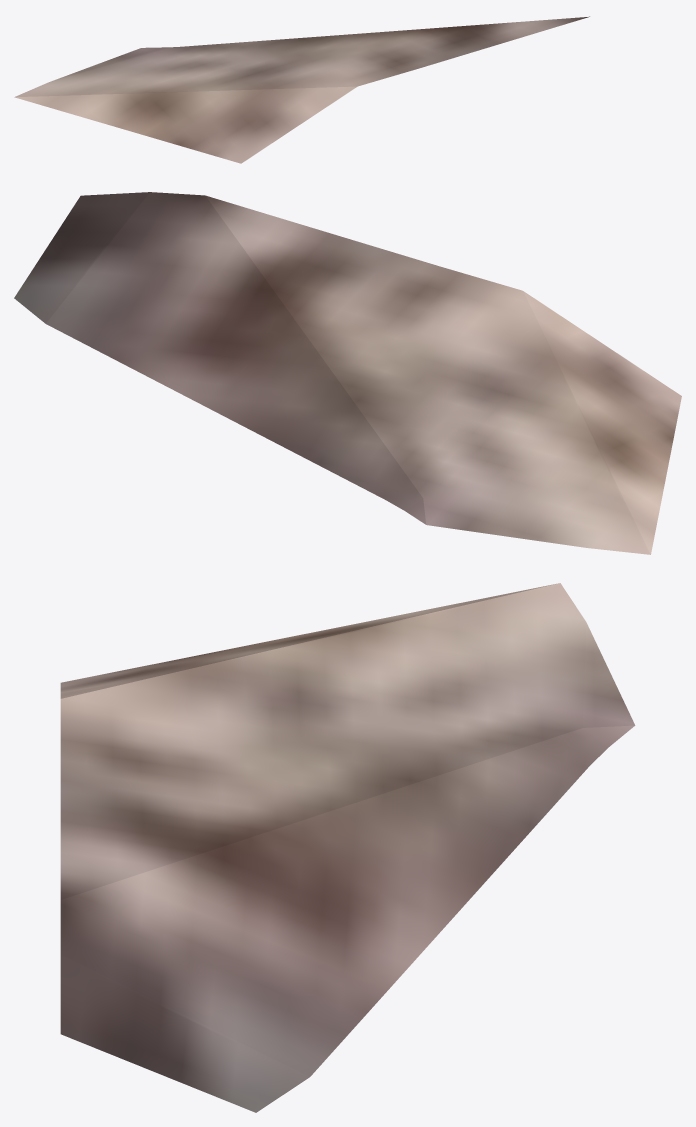
The picture shows the model from 3 angles, top to bottom: view 1: azimuth 30°, elevation 25°; view 2: azimuth 150°, elevation 25°; view 3: azimuth 270°, elevation 25°; orthographic projection. The views are drawn at different scales.
Size of the model in its own units: 0.1498 by 0.0163 by 0.0687.
Materials: 1 (1 with a texture image).
